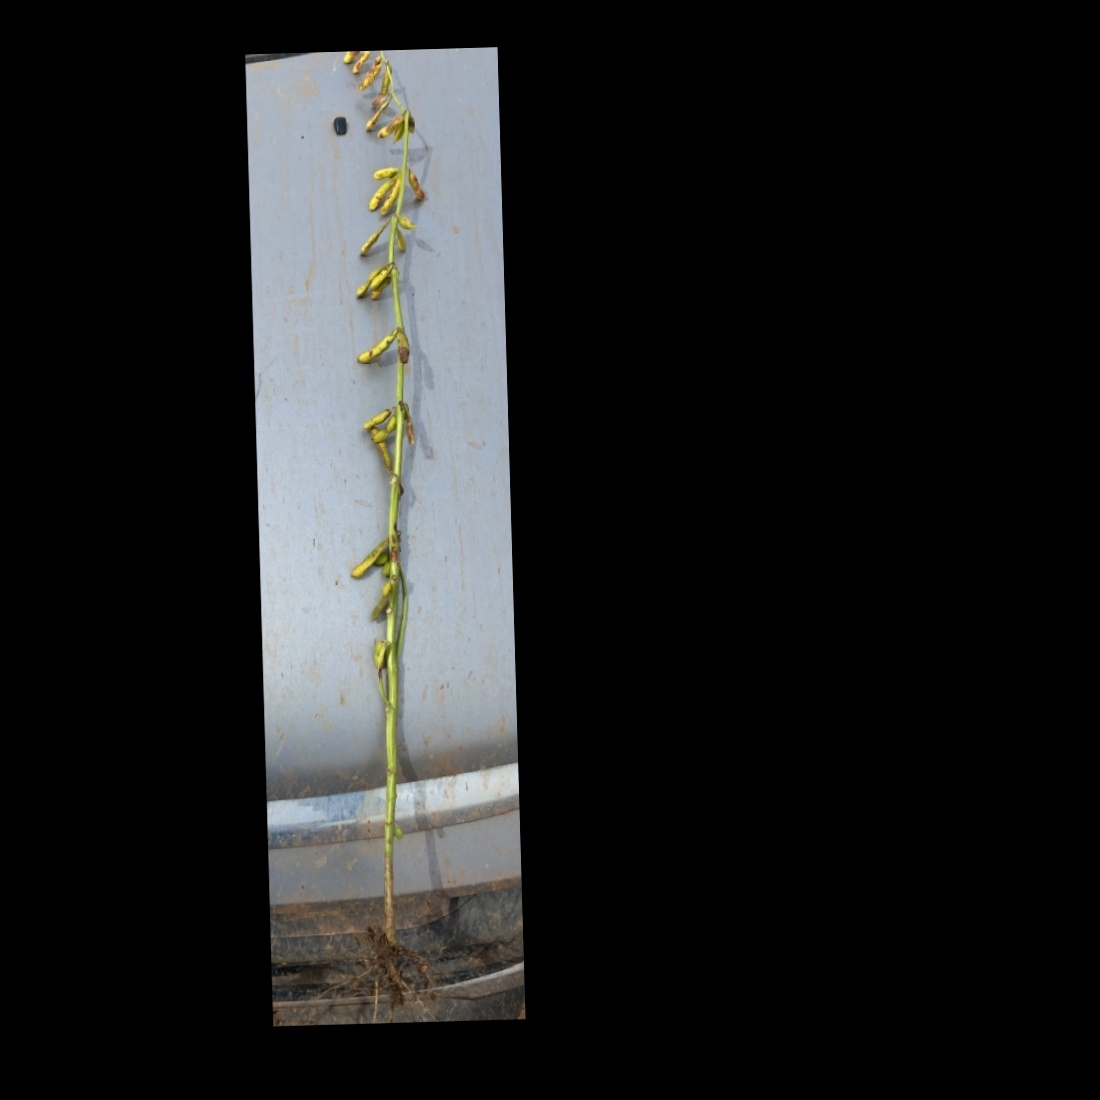pod: (352, 328, 400, 368), (349, 265, 395, 303), (350, 220, 391, 258), (375, 176, 406, 221), (365, 171, 395, 214), (363, 99, 394, 134), (375, 110, 408, 140), (405, 165, 428, 203), (347, 45, 374, 78), (365, 266, 395, 292), (375, 64, 392, 103), (393, 227, 410, 255), (367, 164, 400, 178)
soy: (319, 12, 467, 1015)
